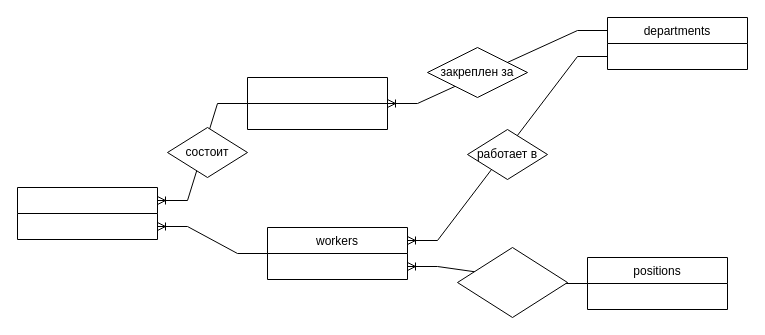
This 765x335 diagram has some shape labels left out. Each missing label, with the centre of its shape:
products: point 317,103
saless: point 87,213
работает на (как): point 512,282
